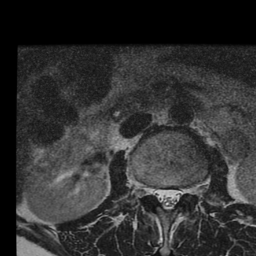CCS_normal: (163, 182, 172, 216)
LFS_normal: (183, 178, 192, 204)
LLS_normal: (172, 182, 183, 210)
RFS_normal: (144, 176, 154, 207)
RLS_normal: (154, 179, 163, 209)
